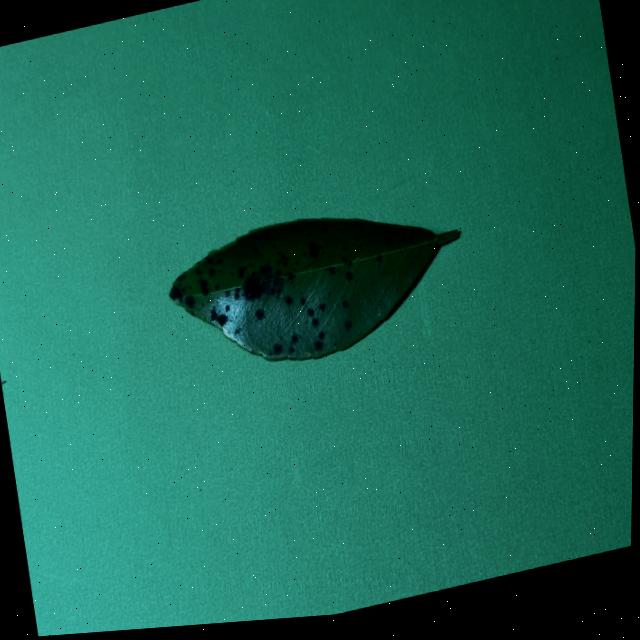sooty_mold: (169, 218, 458, 361)
